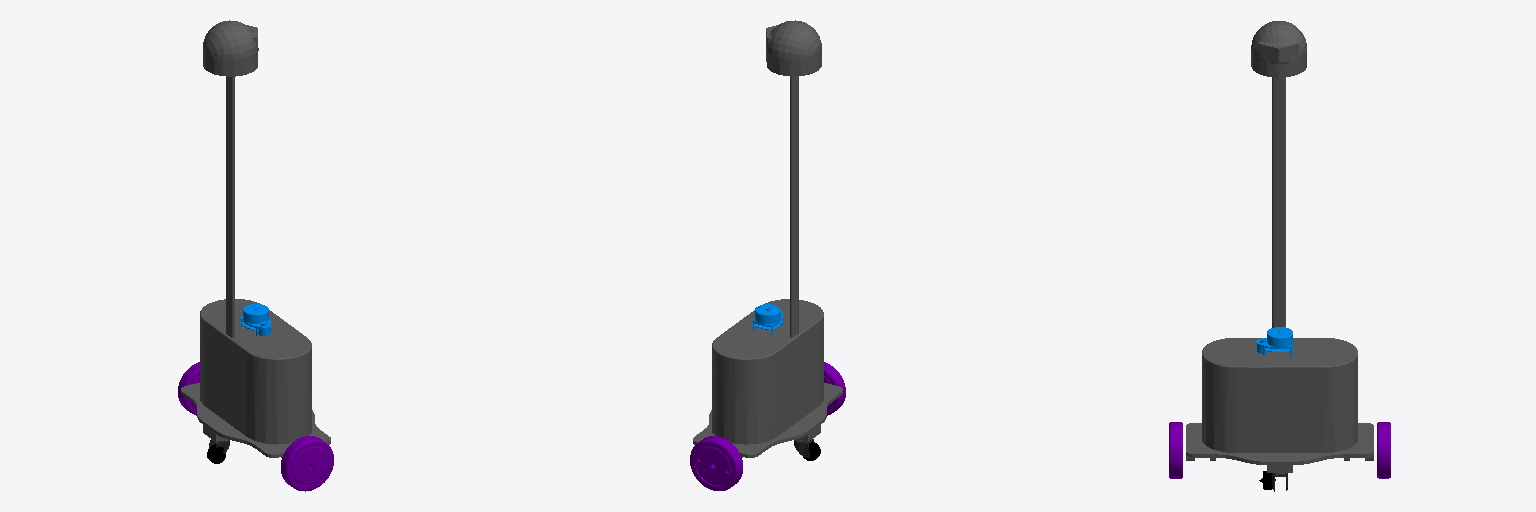
URDF robot description (AEP_Robot):
<?xml version="1.0" encoding="utf-8"?>
<!-- This URDF was automatically created by SolidWorks to URDF Exporter! Originally created by [author] ([email redacted]) 
     Commit Version: 1.6.0-1-g15f4949  Build Version: 1.6.7594.29634
     For more information, please see http://wiki.ros.org/sw_urdf_exporter -->
<robot
  name="AEP_Robot">
  <link
    name="base_link">
    <inertial>
      <origin
        xyz="-0.00080449 0.0073707 0.17128"
        rpy="0 0 0" />
      <mass
        value="15.463" />
      <inertia
        ixx="0.60144"
        ixy="-9.4682E-05"
        ixz="0.035522"
        iyy="0.53218"
        iyz="0.00107"
        izz="0.15057" />
    </inertial>
    <visual>
      <origin
        xyz="0 0 0"
        rpy="0 0 0" />
      <geometry>
        <mesh
          filename="package://AEP_Robot/meshes/base_link.STL" />
      </geometry>
      <material
        name="">
        <color
          rgba="0.4 0.4 0.4 1" />
      </material>
    </visual>
    <collision>
      <origin
        xyz="0 0 0"
        rpy="0 0 0" />
      <geometry>
        <mesh
          filename="package://AEP_Robot/meshes/base_link.STL" />
      </geometry>
    </collision>
  </link>
  <link
    name="lidar_link">
    <inertial>
      <origin
        xyz="-9.1926E-05 -0.0067665 -0.0073819"
        rpy="0 0 0" />
      <mass
        value="1.3308" />
      <inertia
        ixx="0.0009607"
        ixy="8.0198E-07"
        ixz="-3.0916E-06"
        iyy="0.00061492"
        iyz="-0.00015824"
        izz="0.0010982" />
    </inertial>
    <visual>
      <origin
        xyz="0 0 0"
        rpy="0 0 0" />
      <geometry>
        <mesh
          filename="package://AEP_Robot/meshes/lidar_link.STL" />
      </geometry>
      <material
        name="">
        <color
          rgba="0 0.6 1 1" />
      </material>
    </visual>
    <collision>
      <origin
        xyz="0 0 0"
        rpy="0 0 0" />
      <geometry>
        <mesh
          filename="package://AEP_Robot/meshes/lidar_link.STL" />
      </geometry>
    </collision>
  </link>
  <joint
    name="lidar_joint"
    type="fixed">
    <origin
      xyz="0 0.00042039 0.30565"
      rpy="0 0 0" />
    <parent
      link="base_link" />
    <child
      link="lidar_link" />
    <axis
      xyz="0 0 0" />
  </joint>
  <link
    name="left_wheel_link">
    <inertial>
      <origin
        xyz="8.211E-08 -0.017522 -4.1793E-07"
        rpy="0 0 0" />
      <mass
        value="0.583" />
      <inertia
        ixx="0.00092026"
        ixy="2.1255E-10"
        ixz="8.2654E-07"
        iyy="0.0017198"
        iyz="-1.099E-09"
        izz="0.00091447" />
    </inertial>
    <visual>
      <origin
        xyz="0 0 0"
        rpy="0 0 0" />
      <geometry>
        <mesh
          filename="package://AEP_Robot/meshes/left_wheel_link.STL" />
      </geometry>
      <material
        name="">
        <color
          rgba="0.5 0 0.7 1" />
      </material>
    </visual>
    <collision>
      <origin
        xyz="0 0 0"
        rpy="0 0 0" />
      <geometry>
        <mesh
          filename="package://AEP_Robot/meshes/left_wheel_link.STL" />
      </geometry>
    </collision>
  </link>
  <joint
    name="left_wheel_joint"
    type="revolute">
    <origin
      xyz="0 0.29485 -0.025"
      rpy="0 0 0" />
    <parent
      link="base_link" />
    <child
      link="left_wheel_link" />
    <axis
      xyz="0 1 0" />
    <limit
      lower="0"
      upper="0"
      effort="0"
      velocity="0" />
  </joint>
  <link
    name="right_wheel_link">
    <inertial>
      <origin
        xyz="5.3214E-08 0.017522 4.2233E-07"
        rpy="0 0 0" />
      <mass
        value="0.583" />
      <inertia
        ixx="0.00092034"
        ixy="-1.3859E-10"
        ixz="-4.3295E-07"
        iyy="0.0017198"
        iyz="-1.1108E-09"
        izz="0.00091438" />
    </inertial>
    <visual>
      <origin
        xyz="0 0 0"
        rpy="0 0 0" />
      <geometry>
        <mesh
          filename="package://AEP_Robot/meshes/right_wheel_link.STL" />
      </geometry>
      <material
        name="">
        <color
          rgba="0.5 0 0.7 1" />
      </material>
    </visual>
    <collision>
      <origin
        xyz="0 0 0"
        rpy="0 0 0" />
      <geometry>
        <mesh
          filename="package://AEP_Robot/meshes/right_wheel_link.STL" />
      </geometry>
    </collision>
  </link>
  <joint
    name="right_wheel_joint"
    type="revolute">
    <origin
      xyz="0 -0.29485 -0.025"
      rpy="0 0 0" />
    <parent
      link="base_link" />
    <child
      link="right_wheel_link" />
    <axis
      xyz="0 1 0" />
    <limit
      lower="0"
      upper="0"
      effort="0"
      velocity="0" />
  </joint>
  <link
    name="front_castor_body_link">
    <inertial>
      <origin
        xyz="-0.0054917 0.00058892 -0.0066169"
        rpy="0 0 0" />
      <mass
        value="0.011291" />
      <inertia
        ixx="4.0585E-06"
        ixy="-2.4193E-08"
        ixz="-8.6444E-07"
        iyy="3.8353E-06"
        iyz="9.2659E-08"
        izz="4.4634E-06" />
    </inertial>
    <visual>
      <origin
        xyz="0 0 0"
        rpy="0 0 0" />
      <geometry>
        <mesh
          filename="package://AEP_Robot/meshes/front_castor_body_link.STL" />
      </geometry>
      <material
        name="">
        <color
          rgba="0.2 0.2 0.2 1" />
      </material>
    </visual>
    <collision>
      <origin
        xyz="0 0 0"
        rpy="0 0 0" />
      <geometry>
        <mesh
          filename="package://AEP_Robot/meshes/front_castor_body_link.STL" />
      </geometry>
    </collision>
  </link>
  <joint
    name="front_castor_body_joint"
    type="revolute">
    <origin
      xyz="0.105 0 -0.0415"
      rpy="0 0 0" />
    <parent
      link="base_link" />
    <child
      link="front_castor_body_link" />
    <axis
      xyz="0 0 1" />
    <limit
      lower="0"
      upper="0"
      effort="0"
      velocity="0" />
  </joint>
  <link
    name="front_castor_wheel_link">
    <inertial>
      <origin
        xyz="0.0013823 0.012876 -1.2127E-05"
        rpy="0 0 0" />
      <mass
        value="0.047259" />
      <inertia
        ixx="9.5502E-06"
        ixy="4.9669E-07"
        ixz="-4.974E-10"
        iyy="1.4126E-05"
        iyz="5.3372E-11"
        izz="9.5061E-06" />
    </inertial>
    <visual>
      <origin
        xyz="0 0 0"
        rpy="0 0 0" />
      <geometry>
        <mesh
          filename="package://AEP_Robot/meshes/front_castor_wheel_link.STL" />
      </geometry>
      <material
        name="">
        <color
          rgba="0 0 0 1" />
      </material>
    </visual>
    <collision>
      <origin
        xyz="0 0 0"
        rpy="0 0 0" />
      <geometry>
        <mesh
          filename="package://AEP_Robot/meshes/front_castor_wheel_link.STL" />
      </geometry>
    </collision>
  </link>
  <joint
    name="front_castor_wheel_joint"
    type="revolute">
    <origin
      xyz="-0.02425 -0.010422 -0.033"
      rpy="0 0 0" />
    <parent
      link="front_castor_body_link" />
    <child
      link="front_castor_wheel_link" />
    <axis
      xyz="0.10669 0.99429 0" />
    <limit
      lower="0"
      upper="0"
      effort="0"
      velocity="0" />
  </joint>
  <link
    name="back_castor_body_link">
    <inertial>
      <origin
        xyz="-0.0055142 -0.00031498 -0.0066169"
        rpy="0 0 0" />
      <mass
        value="0.011291" />
      <inertia
        ixx="4.0603E-06"
        ixy="1.3028E-08"
        ixz="-8.6797E-07"
        iyy="3.8334E-06"
        iyz="-4.9618E-08"
        izz="4.4634E-06" />
    </inertial>
    <visual>
      <origin
        xyz="0 0 0"
        rpy="0 0 0" />
      <geometry>
        <mesh
          filename="package://AEP_Robot/meshes/back_castor_body_link.STL" />
      </geometry>
      <material
        name="">
        <color
          rgba="0.2 0.2 0.2 1" />
      </material>
    </visual>
    <collision>
      <origin
        xyz="0 0 0"
        rpy="0 0 0" />
      <geometry>
        <mesh
          filename="package://AEP_Robot/meshes/back_castor_body_link.STL" />
      </geometry>
    </collision>
  </link>
  <joint
    name="back_castor_body_joint"
    type="revolute">
    <origin
      xyz="-0.105 0 -0.0415"
      rpy="0 0 0" />
    <parent
      link="base_link" />
    <child
      link="back_castor_body_link" />
    <axis
      xyz="0 0 1" />
    <limit
      lower="0"
      upper="0"
      effort="0"
      velocity="0" />
  </joint>
  <link
    name="back_castor_wheel_link">
    <inertial>
      <origin
        xyz="0.0007609 -0.013128 -2.6984E-06"
        rpy="0 0 0" />
      <mass
        value="0.047259" />
      <inertia
        ixx="9.5208E-06"
        ixy="-2.6579E-07"
        ixz="-1.9877E-09"
        iyy="1.4164E-05"
        iyz="-1.1341E-10"
        izz="9.4974E-06" />
    </inertial>
    <visual>
      <origin
        xyz="0 0 0"
        rpy="0 0 0" />
      <geometry>
        <mesh
          filename="package://AEP_Robot/meshes/back_castor_wheel_link.STL" />
      </geometry>
      <material
        name="">
        <color
          rgba="0 0 0 1" />
      </material>
    </visual>
    <collision>
      <origin
        xyz="0 0 0"
        rpy="0 0 0" />
      <geometry>
        <mesh
          filename="package://AEP_Robot/meshes/back_castor_wheel_link.STL" />
      </geometry>
    </collision>
  </link>
  <joint
    name="back_castor_wheel_joint"
    type="revolute">
    <origin
      xyz="-0.023712 0.011818 -0.033"
      rpy="0 0 0" />
    <parent
      link="back_castor_body_link" />
    <child
      link="back_castor_wheel_link" />
    <axis
      xyz="0.056964 0.99838 0" />
    <limit
      lower="0"
      upper="0"
      effort="0"
      velocity="0" />
  </joint>
</robot>

--- Render facts (derived) ---
3 views of the same robot in one strip: view 1: azimuth 30°, elevation 25°; view 2: azimuth 150°, elevation 25°; view 3: azimuth 270°, elevation 25° (orthographic).
Robot: AEP_Robot — 8 links, 7 joints (6 revolute, 1 fixed); root link base_link; default pose: all joints at 0.
Links seen in each view (by area): view 1: base_link, right_wheel_link, lidar_link, left_wheel_link; view 2: base_link, left_wheel_link, lidar_link, right_wheel_link; view 3: base_link, right_wheel_link, left_wheel_link, lidar_link.
Link boxes in pixels (x1=…): base_link: x1=181, y1=20, x2=330, y2=457; right_wheel_link: x1=281, y1=436, x2=333, y2=491; lidar_link: x1=241, y1=304, x2=271, y2=336; left_wheel_link: x1=178, y1=362, x2=199, y2=415; base_link: x1=693, y1=20, x2=842, y2=457; left_wheel_link: x1=690, y1=436, x2=742, y2=490; lidar_link: x1=753, y1=304, x2=782, y2=334; right_wheel_link: x1=824, y1=362, x2=845, y2=415; base_link: x1=1186, y1=21, x2=1373, y2=474; right_wheel_link: x1=1169, y1=422, x2=1182, y2=478; left_wheel_link: x1=1377, y1=422, x2=1390, y2=478; lidar_link: x1=1256, y1=327, x2=1292, y2=356.
Size in the robot's own frame: 0.3 by 0.5897 by 1.29 metres.
Meshes: 8 distinct files referenced, 8 mesh visuals loaded (8 binary STL).